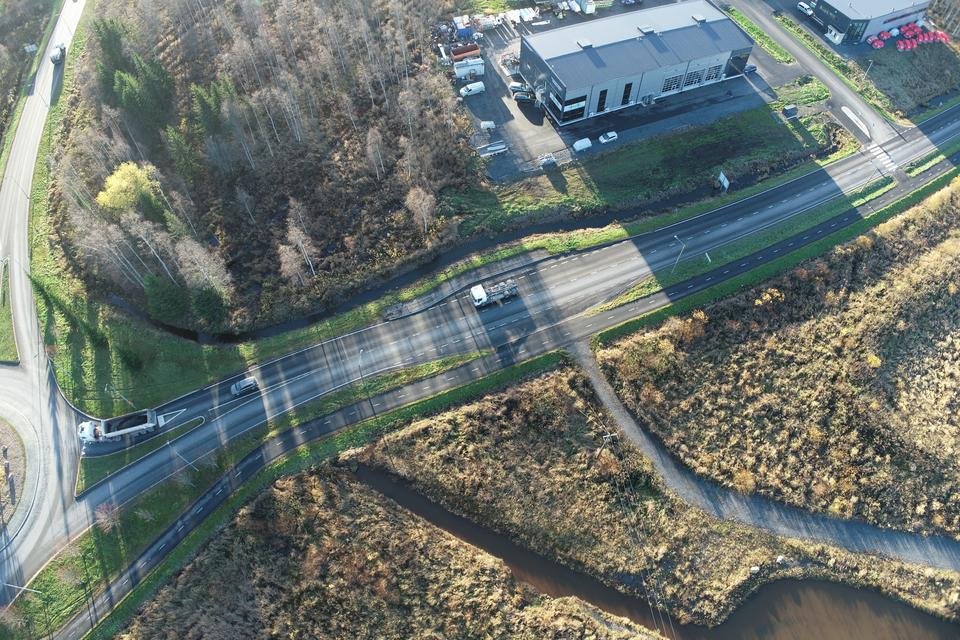intersection: (510, 223, 644, 395), (828, 98, 958, 273)
roundabout: (0, 249, 139, 640)
